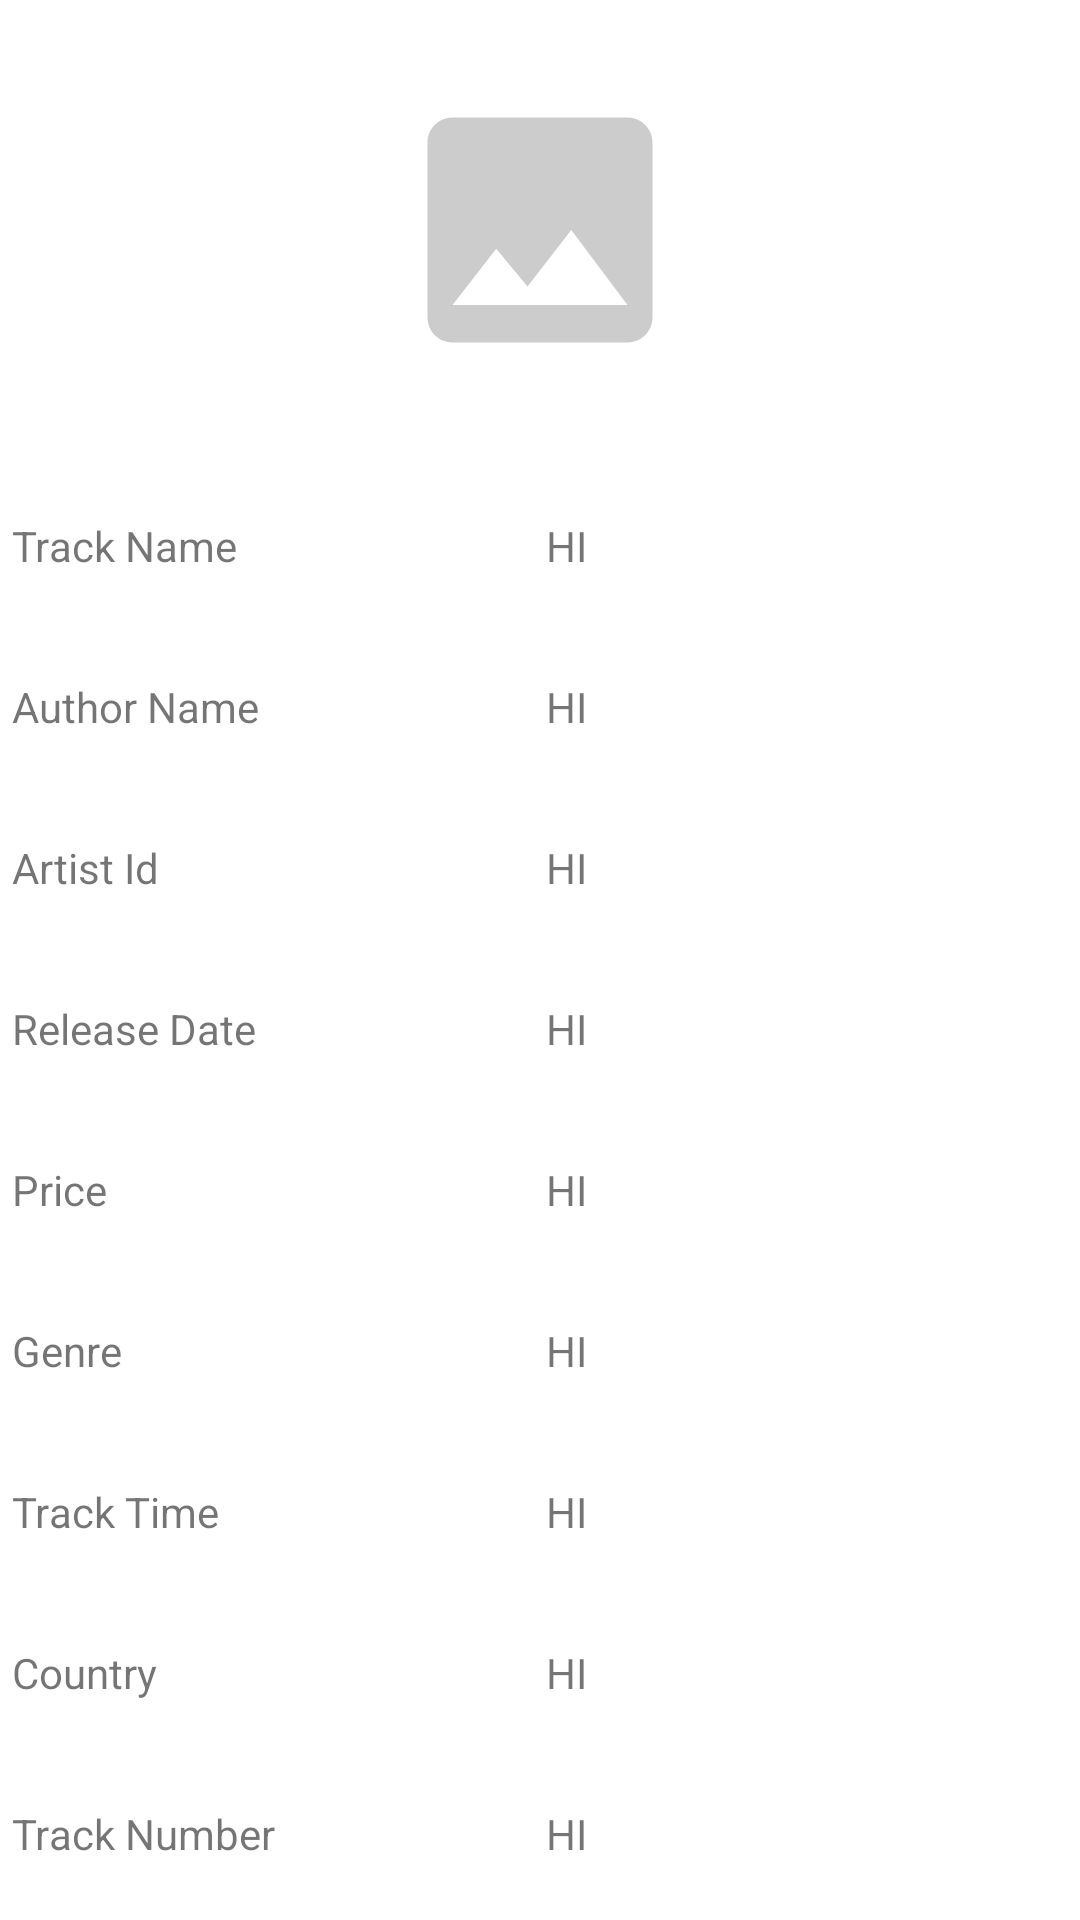

Named icons in this screenshot (1080w x 1920h) and their bounding boxes, (x1, y1, x2, y2):
insert photo: (427, 117, 653, 343)
